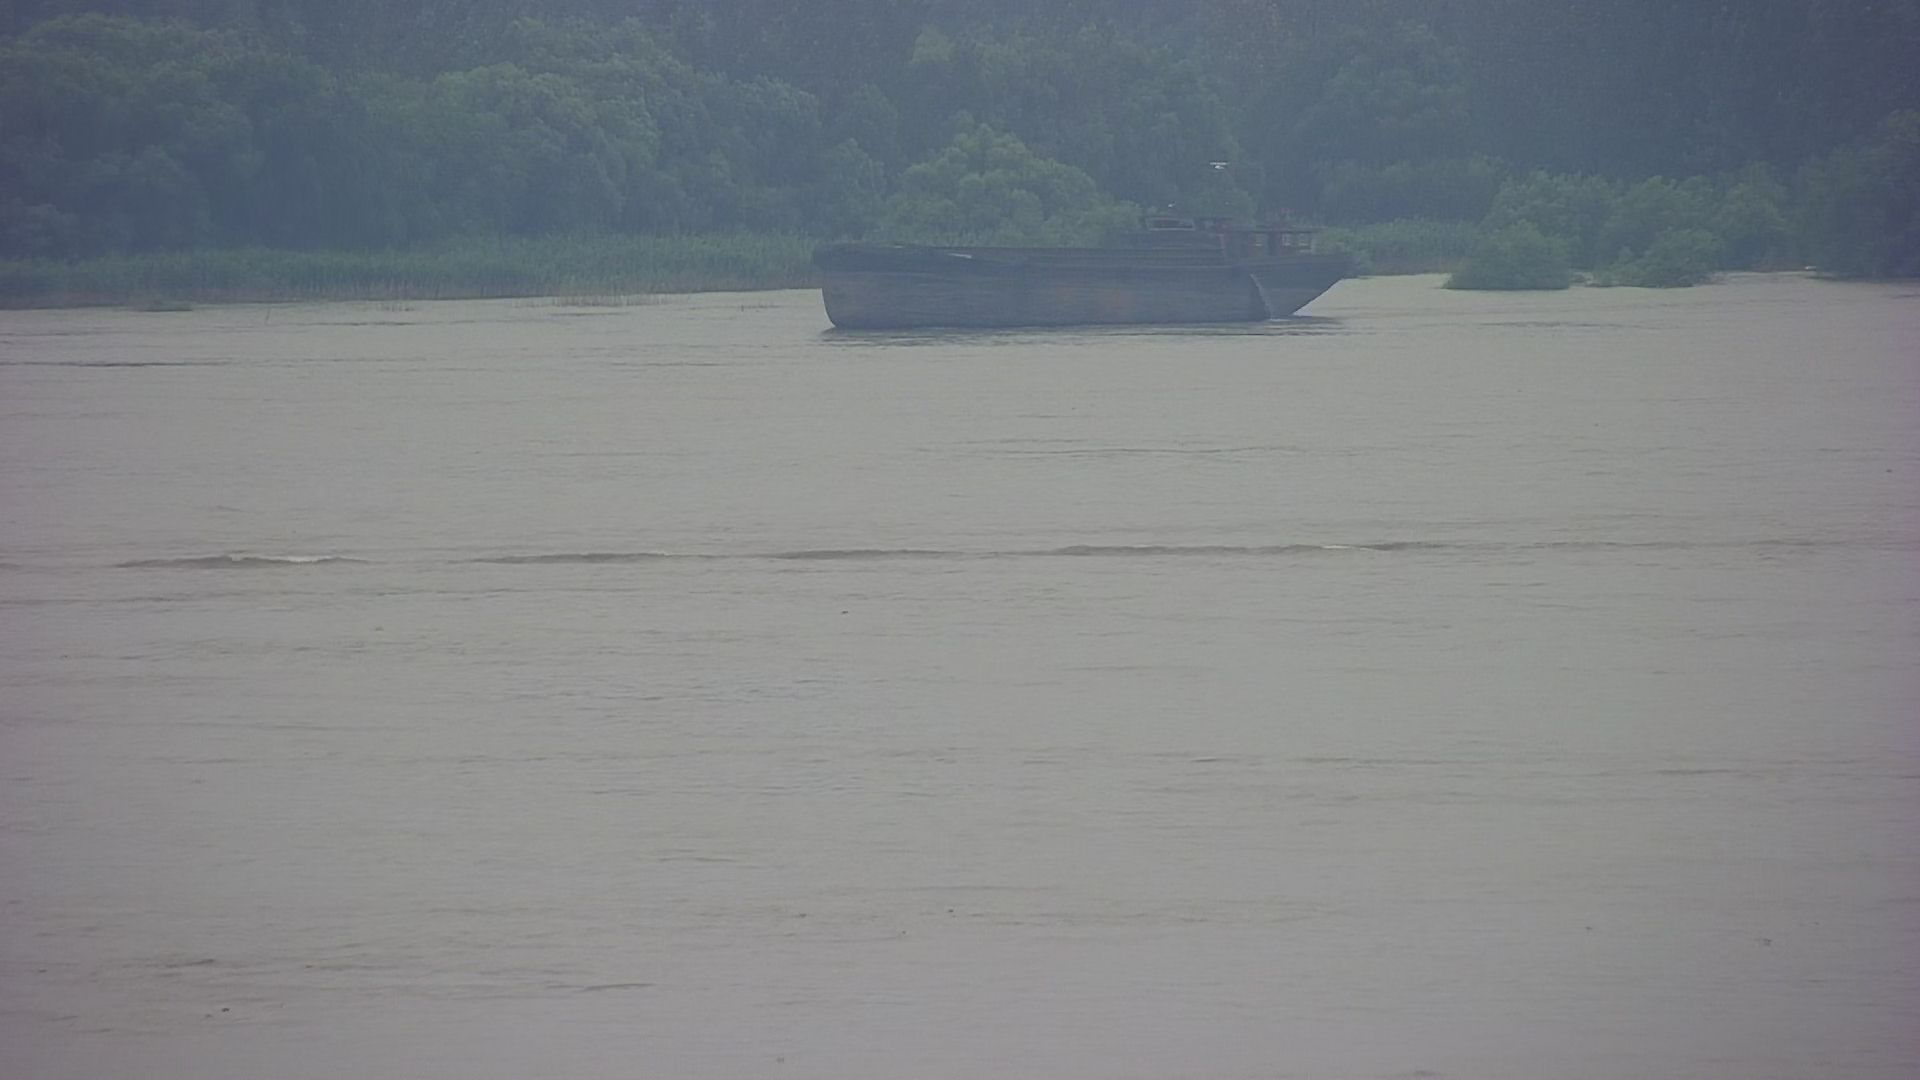grass: (1443, 225, 1578, 291), (1592, 225, 1717, 289)
ship: (806, 196, 1346, 330)
